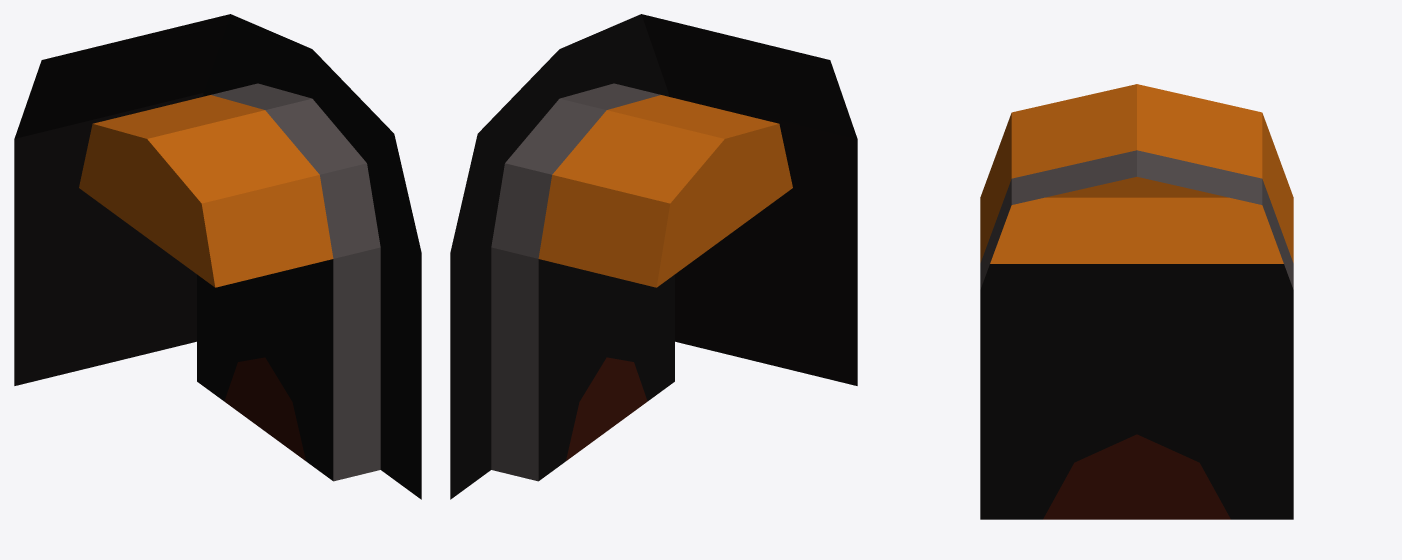
Rendered from obj_pottery_oven_0.obj.
3 views of the same model, side by side, from view 1: azimuth 30°, elevation 25°; view 2: azimuth 150°, elevation 25°; view 3: azimuth 270°, elevation 25° (orthographic). The views are drawn at different scales.
Bounding box in the file's own units: 1 × 1.88 × 2.
